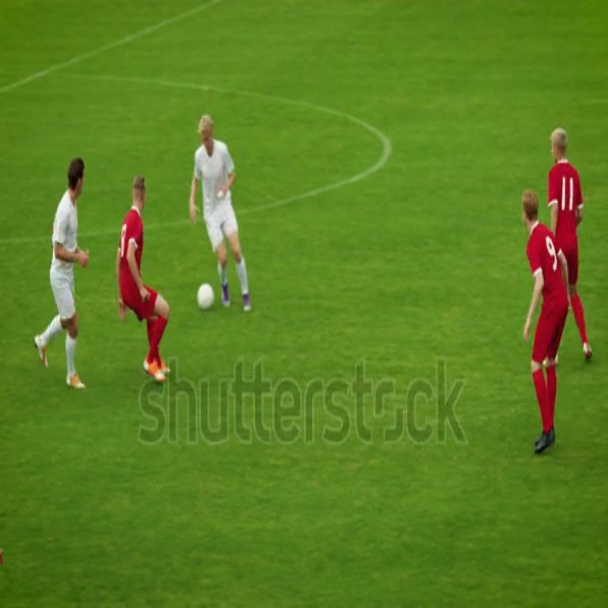ball: (199, 280, 216, 315)
